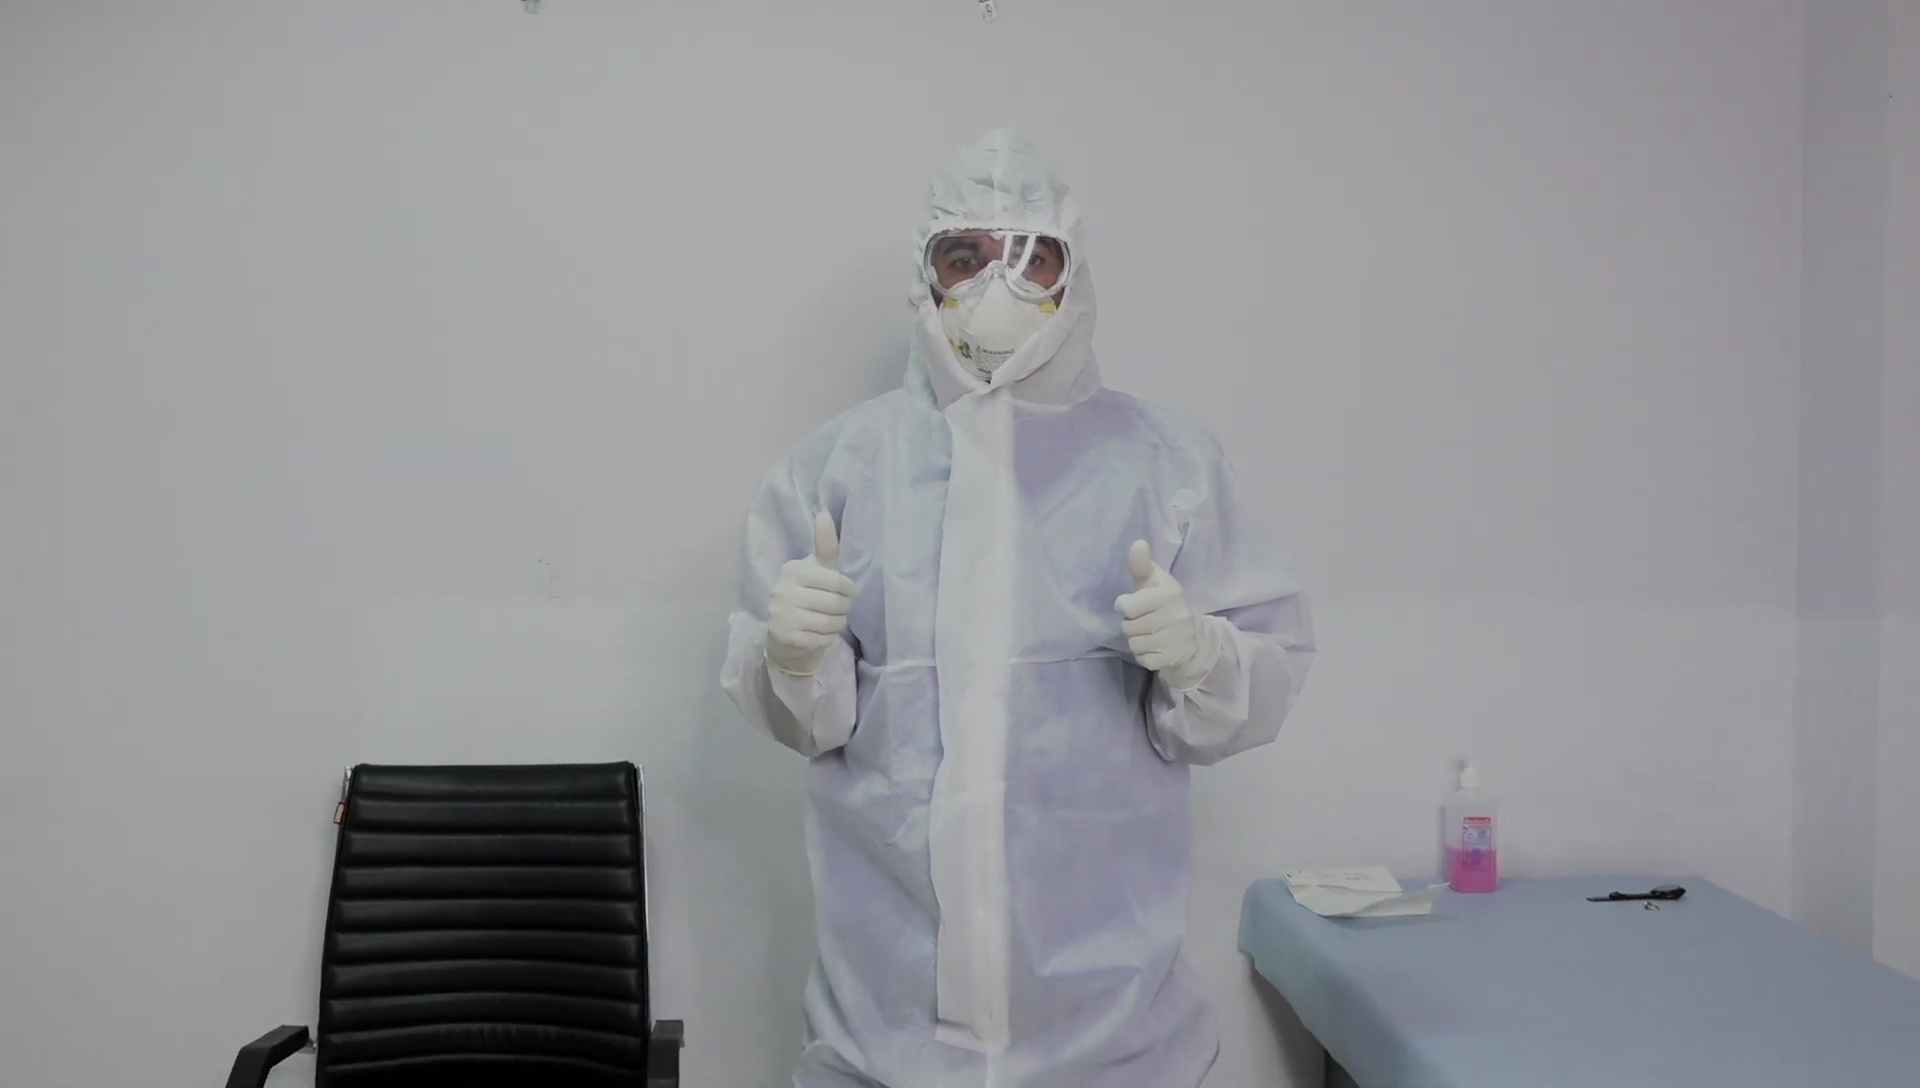Coverall: (716, 124, 1314, 1086)
Gloves: (766, 508, 860, 660), (1111, 540, 1201, 673)
Goggles: (921, 222, 1074, 305)
with_mask: (937, 262, 1057, 378)
